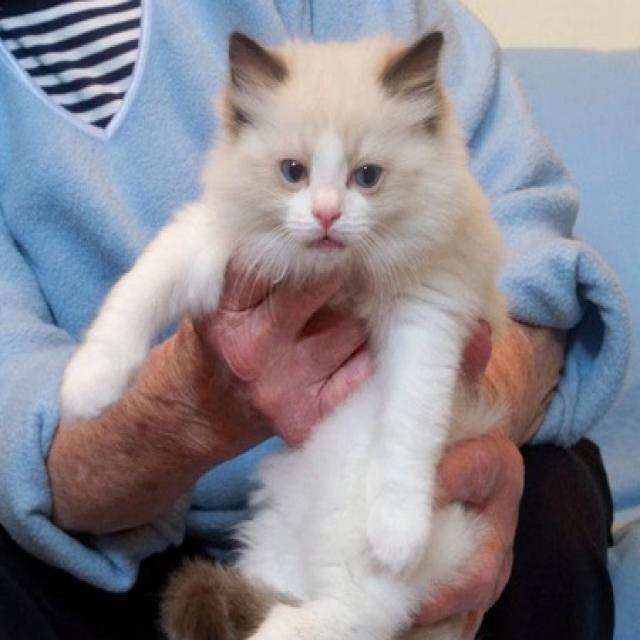Ragdoll: (56, 19, 530, 640)
